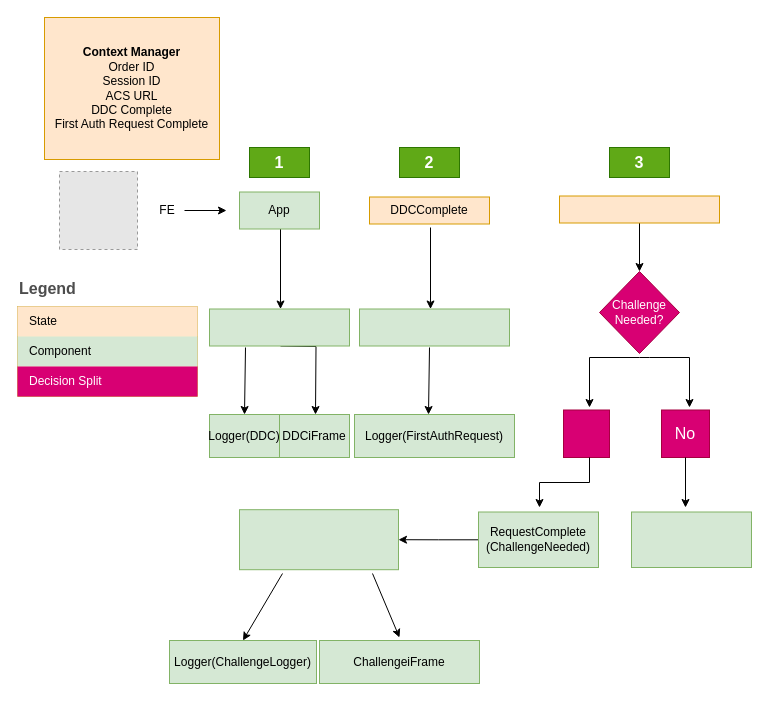
The diagram is 769 pixels wide and 701 high, and some of its shapes have lost their labels. Grey dashed boxes stand in for pictures. Here are the shapes that lost their labels. From the top down, the centre of each, then its label:
At [639,209]: "First Auth Request Complete".
At [279,327]: "Manager(DDCManager)".
At [434,327]: "Manager (FirstAuthRequestManager)".
At [586,433]: "Yes".
At [318,539]: "Manager(ChallengeManager)".
At [691,539]: "RequestComplete (NoChallenge)".
